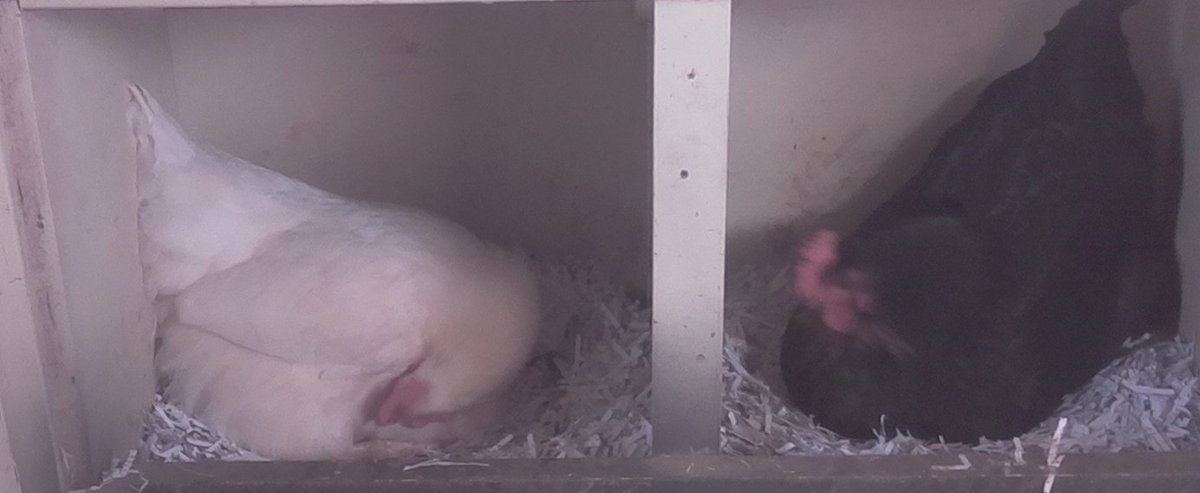hen: (114, 75, 581, 470), (778, 1, 1189, 449)
